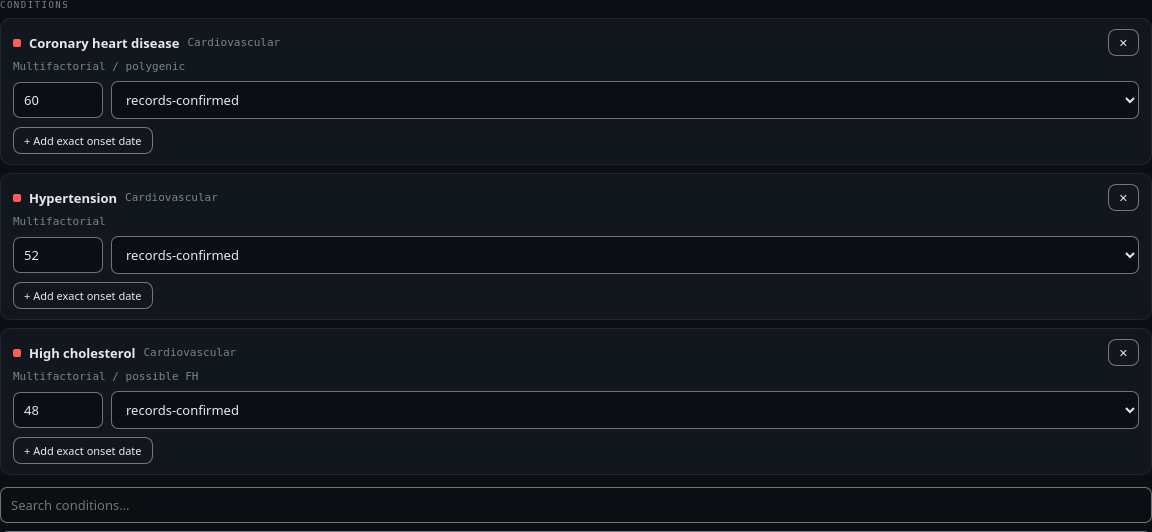
Scenario: ConditionPicker — exact onset date entry (W6) › writes a full onsetDate as soon as year, month and day are all entered, committing per field with no Save button
Click the button "+ Add exact onset date" below "Multifactorial / polygenic": (83, 140) [13,127,152,154]
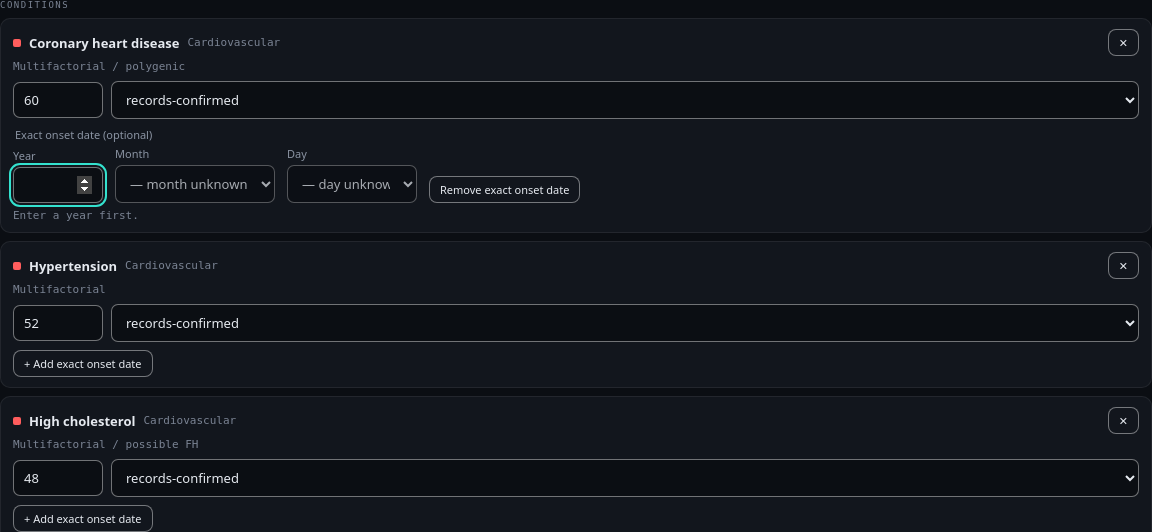
In the number field labelled "Year": (58, 185) [13,167,103,203], type "2015"
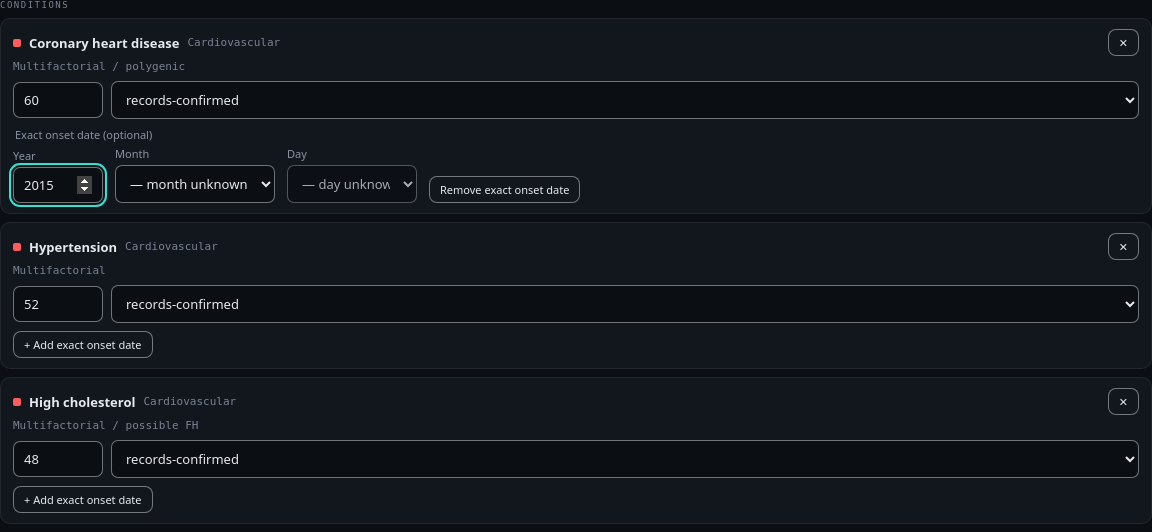
Select "June" in the dropdown labelled "Month": (195, 184) [115,165,275,203]
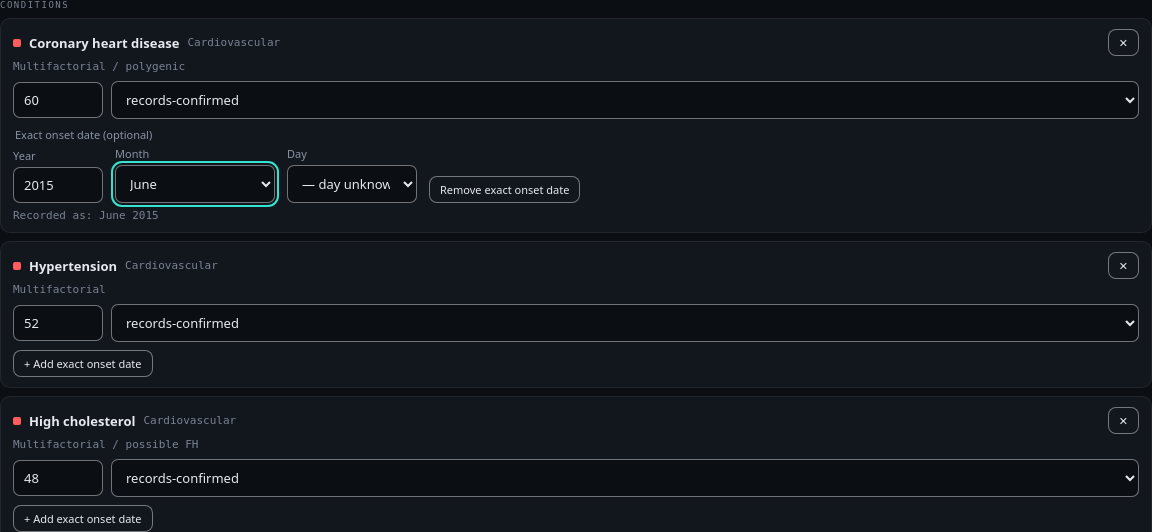
Select "10" in the dropdown labelled "Day": (352, 184) [287,165,417,203]
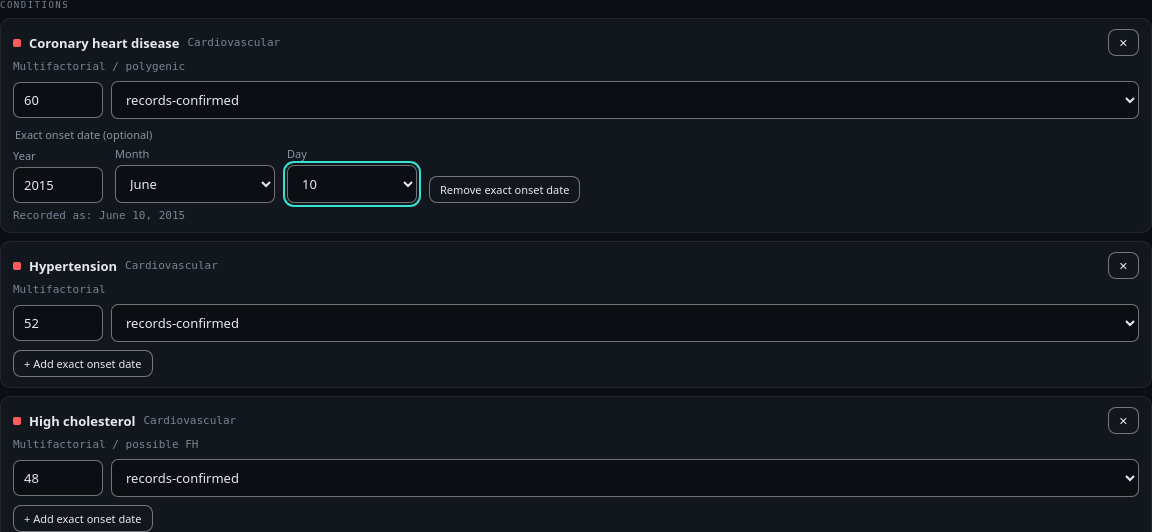
Expected: the number field named "onset age for coronary" below "Multifactorial / polygenic" holds "60", [13,82,103,118]
Expected: the text "Recorded as: June 10, 2015" is shown, [13,209,185,222]
